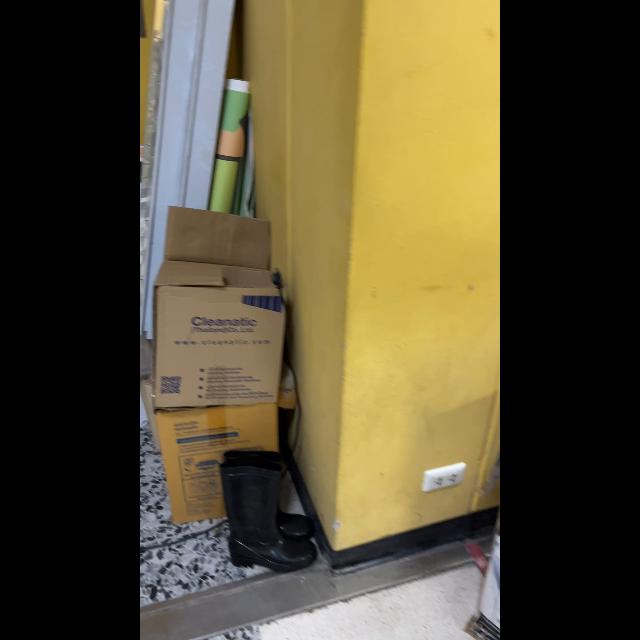cardboard_box: (141, 202, 291, 406), (148, 406, 276, 526)
